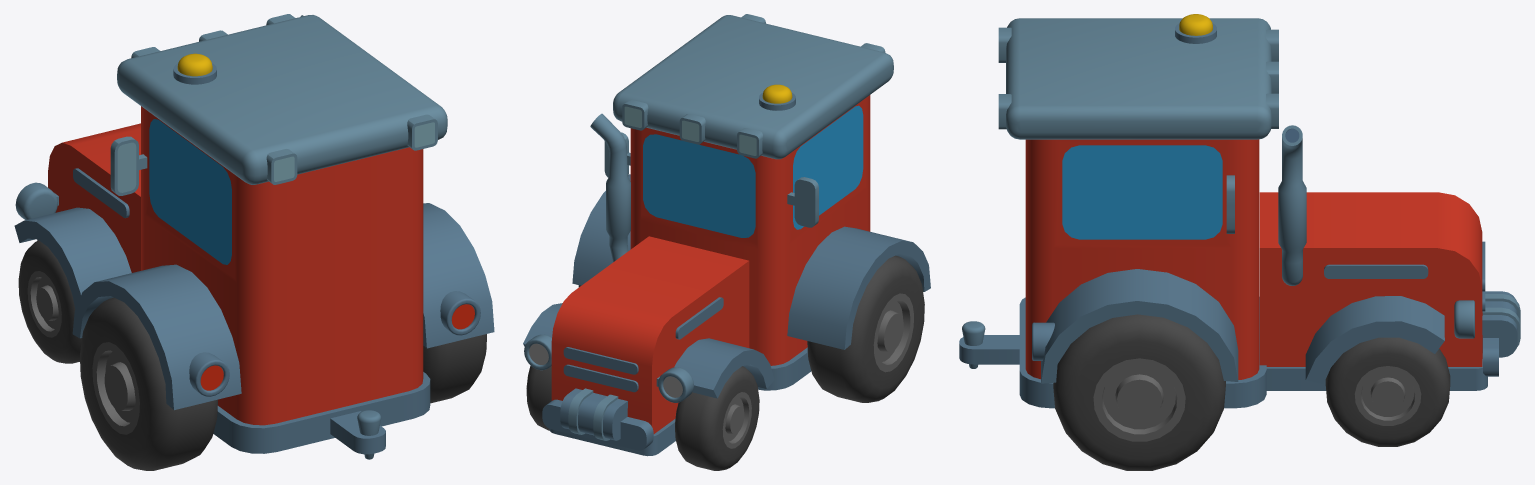
File: Vehicle3.fbx
3 views of the same model, side by side, from view 1: azimuth 30°, elevation 25°; view 2: azimuth 150°, elevation 25°; view 3: azimuth 270°, elevation 25° (orthographic). The views are drawn at different scales.
Visible parts, largest first — view 1: Cube.018, Cylinder.014, Cylinder.013; view 2: Cube.018, Cylinder.014, Cylinder.013; view 3: Cube.018, Cylinder.014, Cylinder.013.
Part boxes in pixels (bbox=[...]): Cube.018: bbox=[14, 14, 494, 459]; Cylinder.014: bbox=[80, 297, 486, 470]; Cylinder.013: bbox=[18, 240, 81, 363]; Cube.018: bbox=[523, 14, 930, 456]; Cylinder.014: bbox=[578, 255, 924, 402]; Cylinder.013: bbox=[526, 365, 759, 470]; Cube.018: bbox=[959, 14, 1520, 408]; Cylinder.014: bbox=[1053, 314, 1225, 470]; Cylinder.013: bbox=[1325, 337, 1450, 446].
Bounding box in the file's own units: 5.48 × 8.2 × 5.69.
